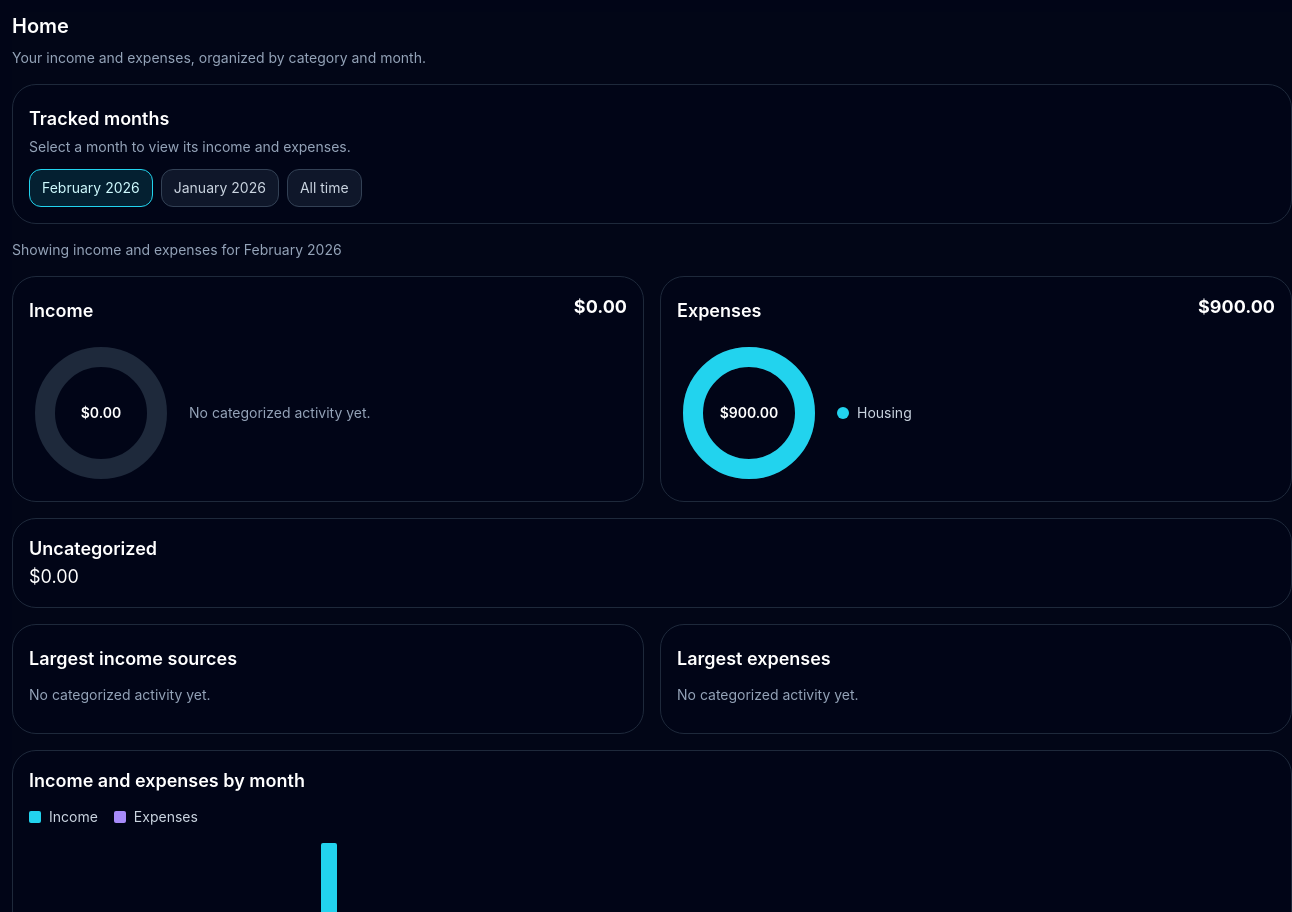
Scenario: HomeTab category charts › keeps a category highlighted when its legend item is selected
The width and height of the screenshot is (1292, 912).
Expected: the heading "Expenses" is shown, [677,297,762,325]
Click the button "January 2026". click: click(220, 188)
box: [161,169,279,207]
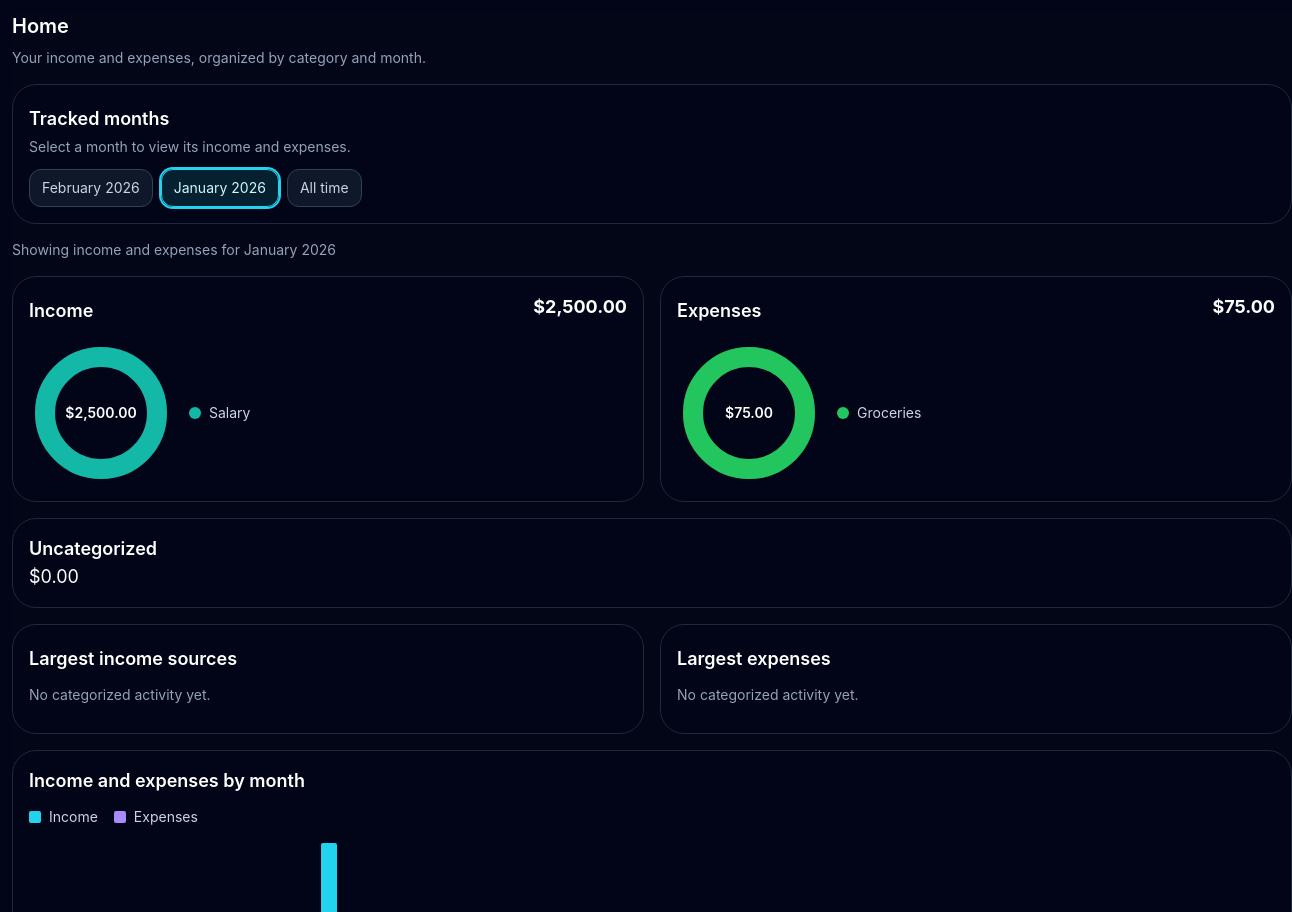
Click the button with aria-label "Groceries:". click: click(889, 412)
box: [837,403,1275,423]
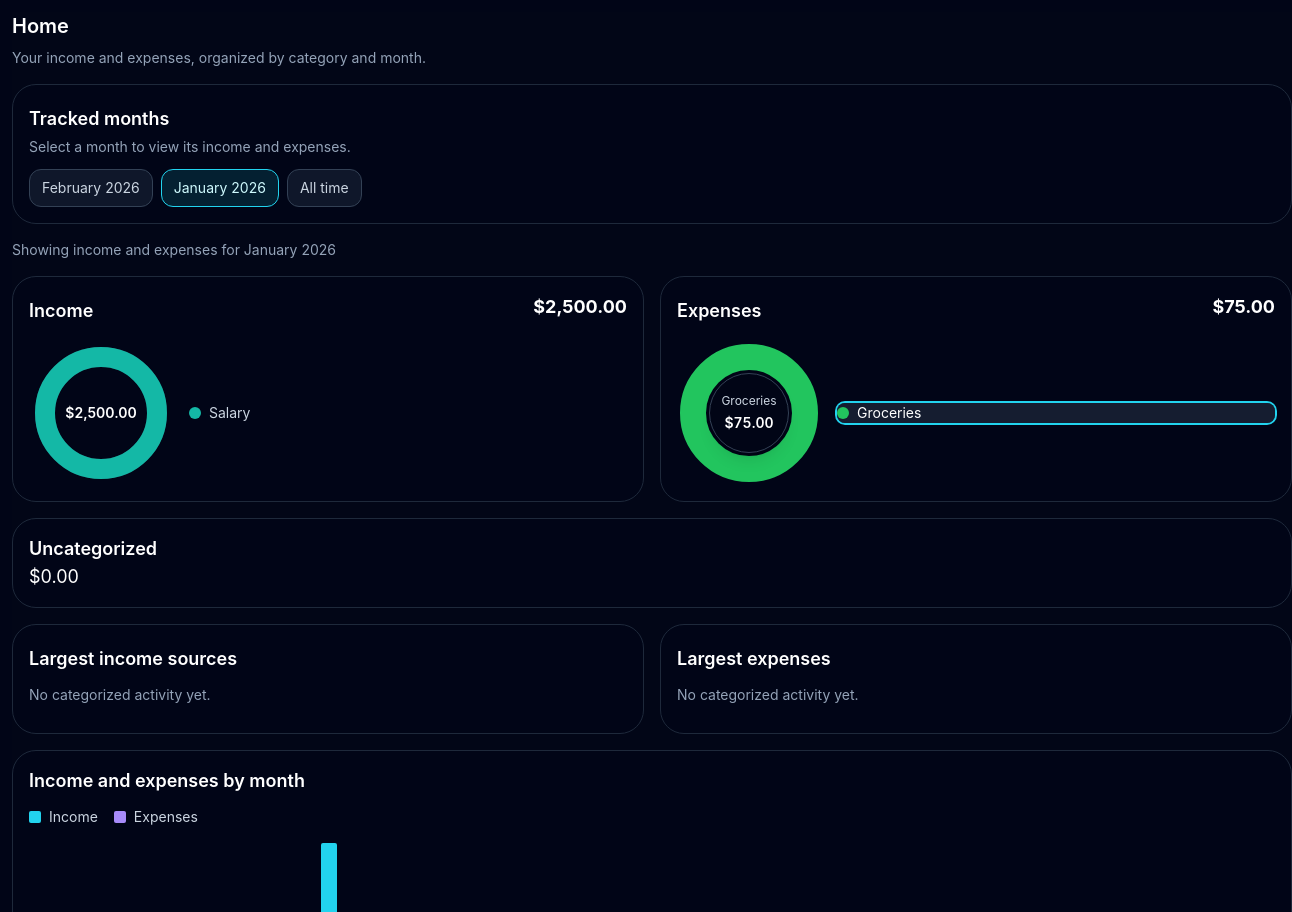
Result: the message shows "Groceries" at [721,393,777,408]
